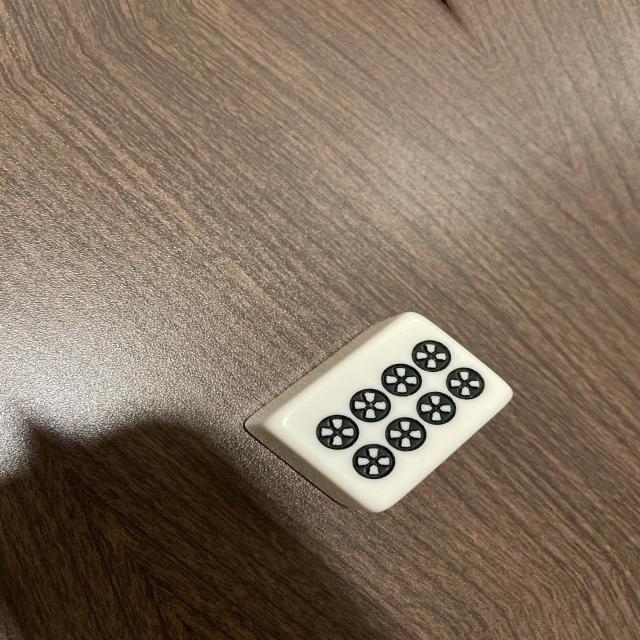8D: (265, 296, 513, 519)
